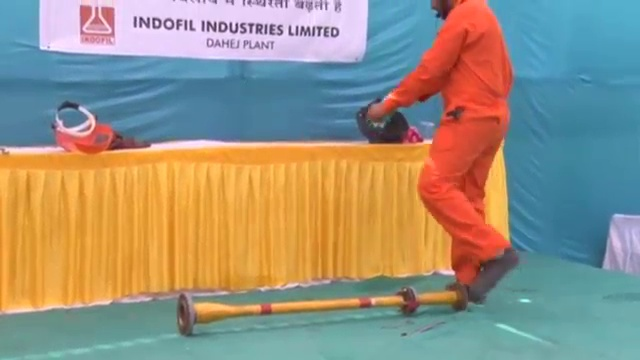person: (371, 1, 522, 311)
